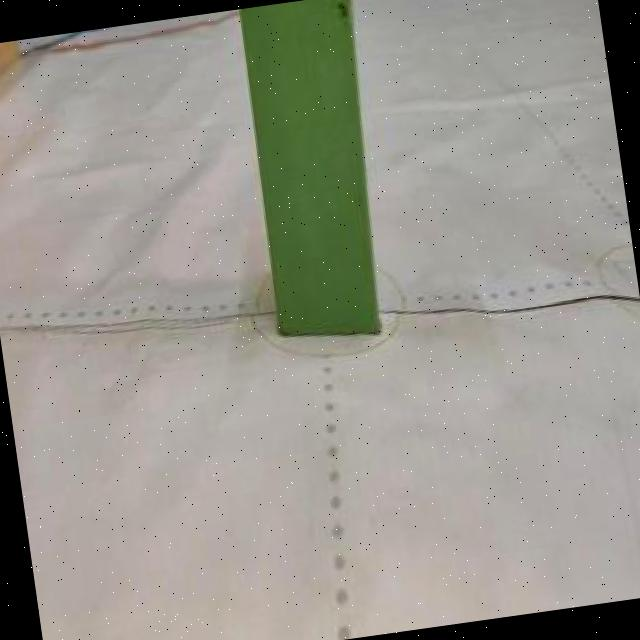greenbox: (226, 0, 400, 362)
